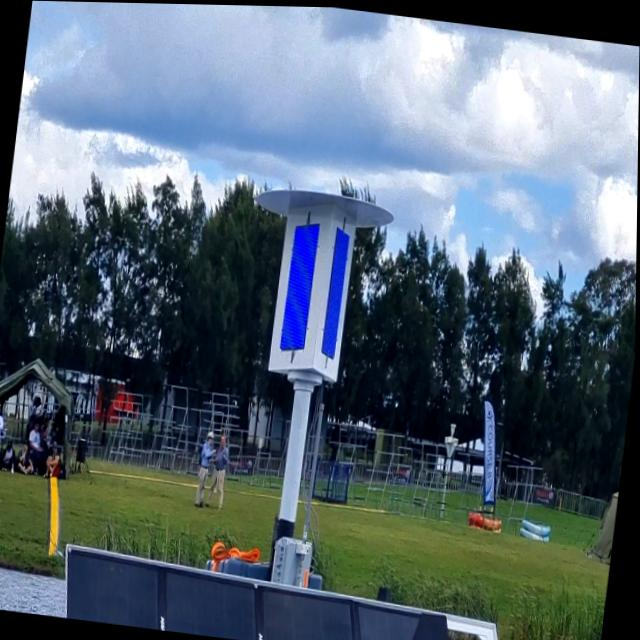led: (275, 208, 325, 360), (316, 213, 354, 367)
